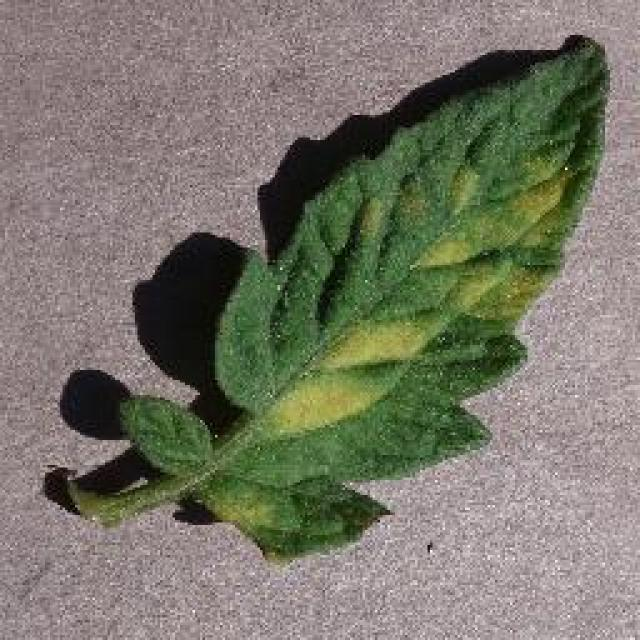Tomato mold leaf: (117, 38, 612, 562)
